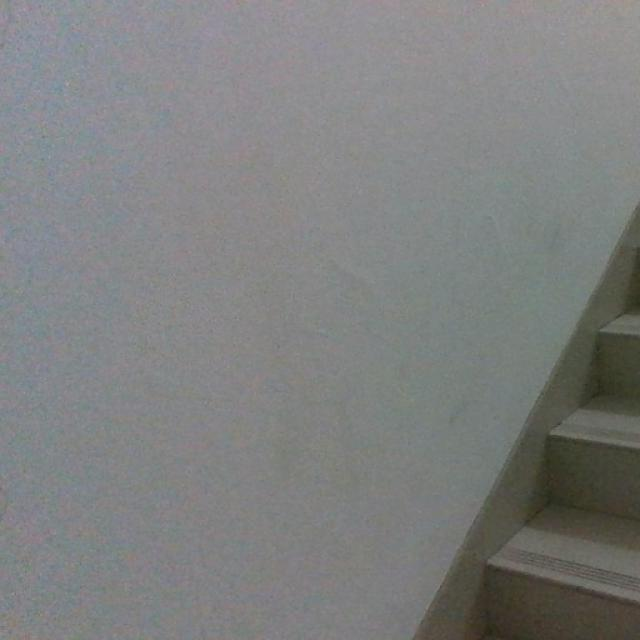stair: (508, 267, 640, 621)
